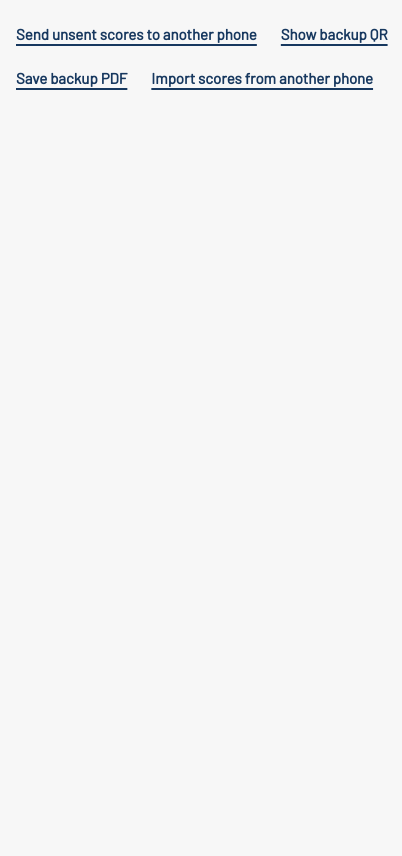
Test: OutboxTransfer › shows a share confirmation
Click the button "Send unsent scores to another phone" at point(136, 34), box [12,12,261,56]
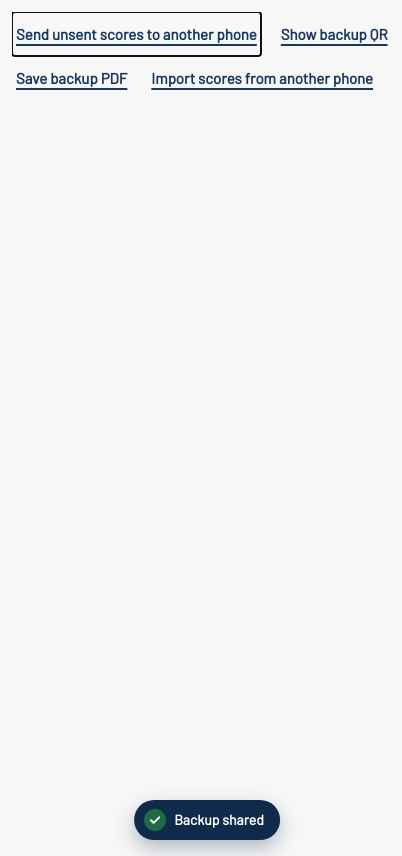
Expected: the text "Backup shared" is shown, [174,812,264,828]
